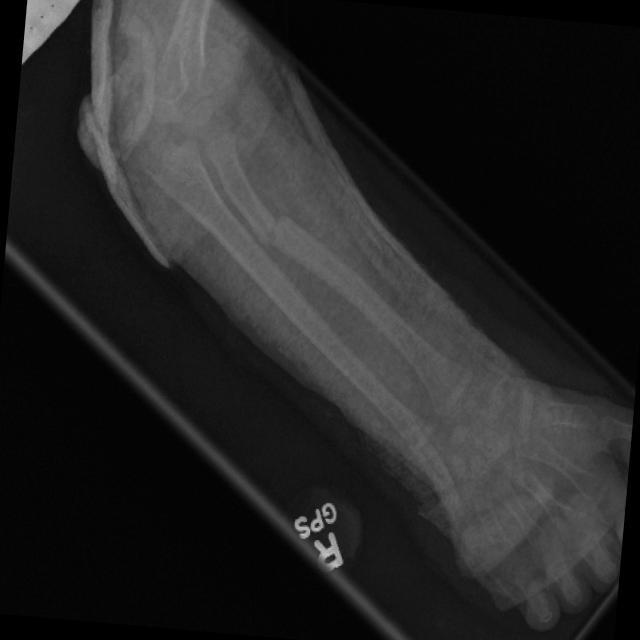forearm fracture: (225, 179, 331, 296)
